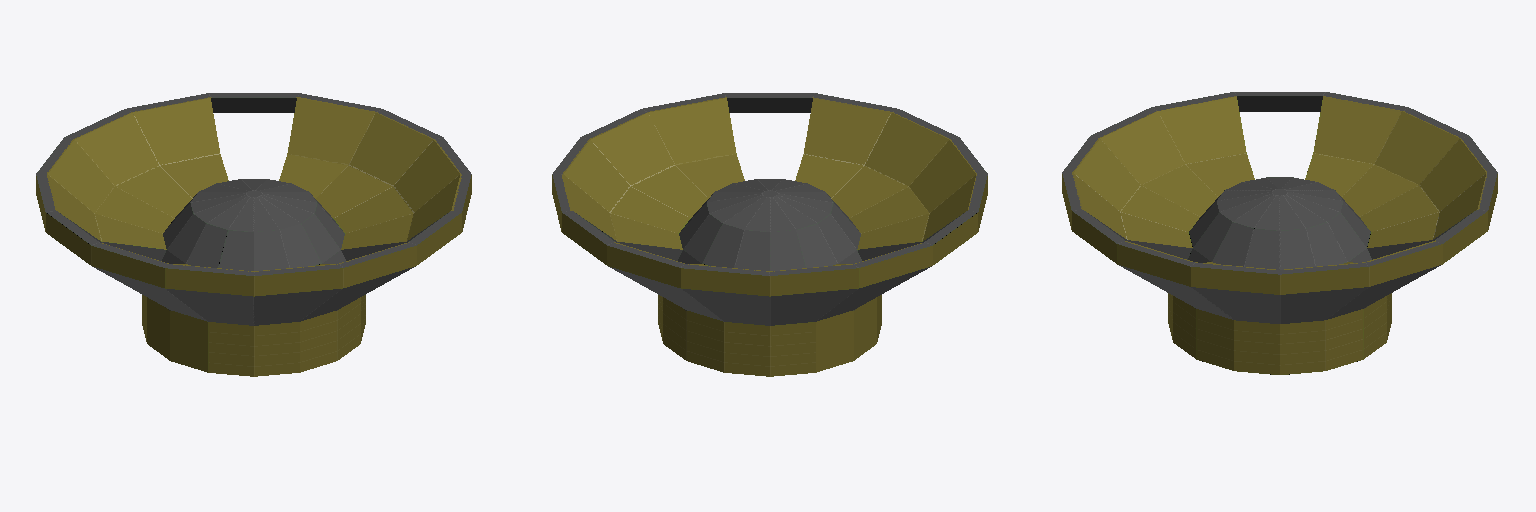
3 renders of one model, left to right at view 1: azimuth 30°, elevation 25°; view 2: azimuth 150°, elevation 25°; view 3: azimuth 270°, elevation 25°, orthographic.
Parts seen in each view (by area): view 1: Cylinder001; view 2: Cylinder001; view 3: Cylinder001.
Part boxes in pixels (bbox=[...]): Cylinder001: bbox=[36, 93, 471, 376]; Cylinder001: bbox=[552, 93, 987, 376]; Cylinder001: bbox=[1062, 92, 1497, 374].
Size of the model in its own units: 38.54 by 14.3 by 38.75.
Materials: 1 (1 with a texture image).